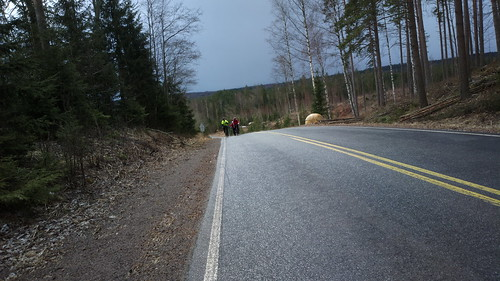sky: (170, 1, 300, 77)
street: (200, 126, 500, 281)
vegetation: (1, 3, 209, 214), (291, 1, 500, 117)
